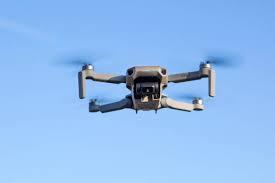drone: (52, 48, 243, 122)
